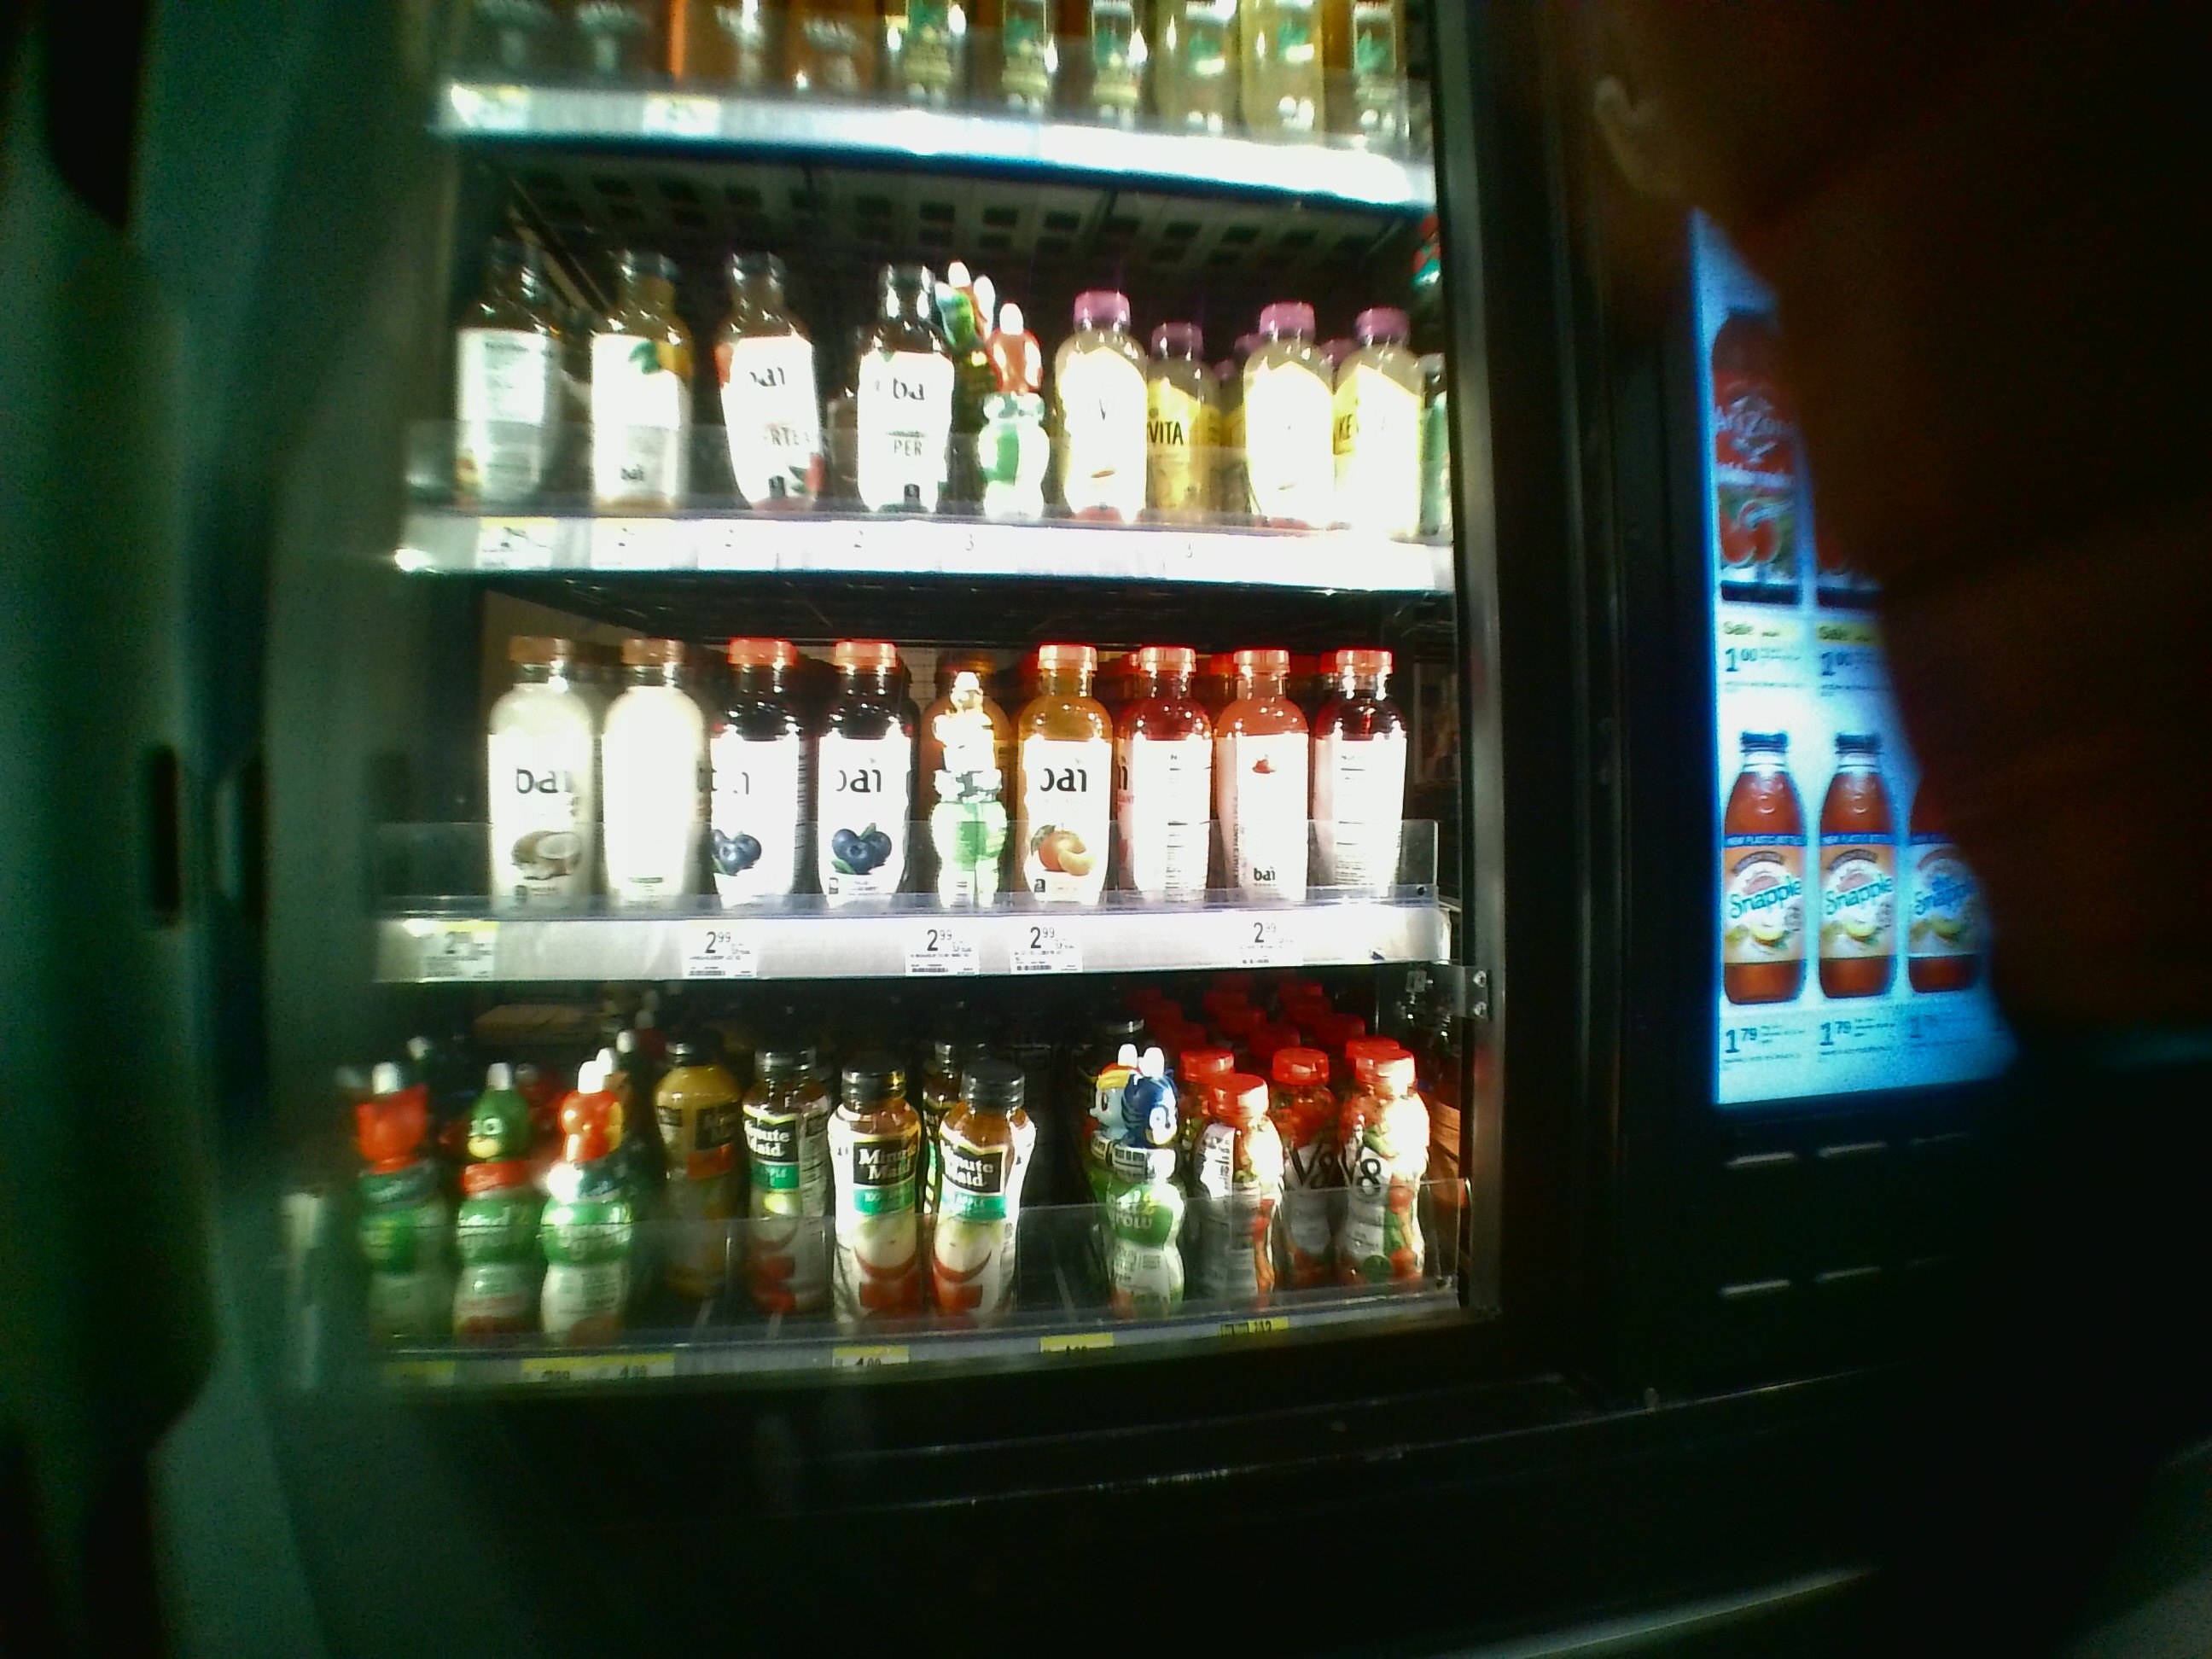shelf: (409, 125, 1460, 580), (361, 990, 1489, 1396), (381, 573, 1475, 978)
